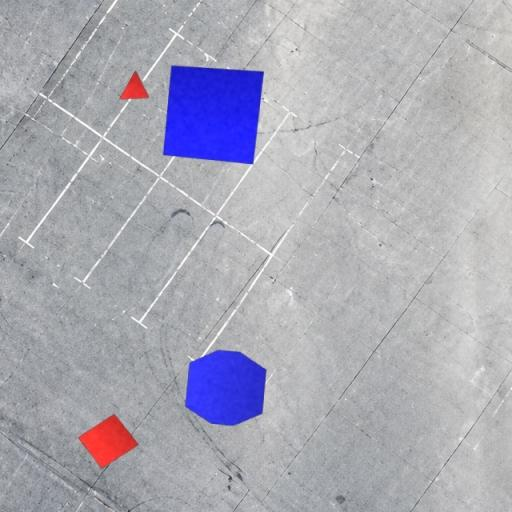BLUE_SQUARE: (162, 65, 264, 165)
RED_SQUARE: (78, 412, 140, 470)
